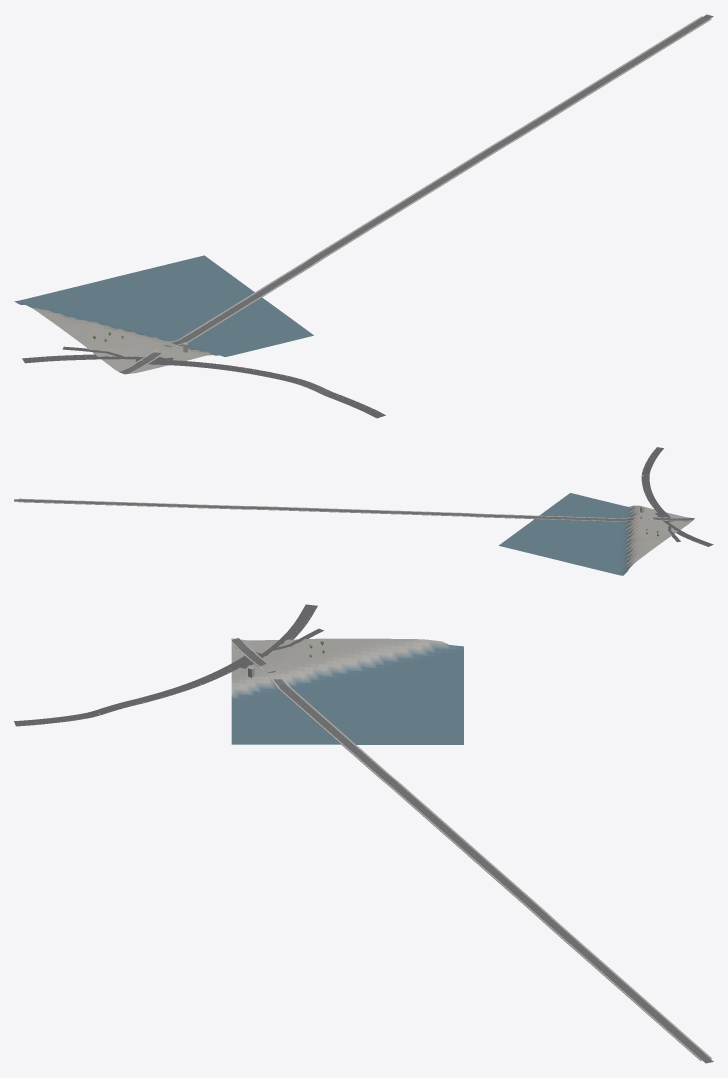
Rendered from tile_4_6.glb.
3 views of the same model, one above another, from view 1: azimuth 30°, elevation 25°; view 2: azimuth 150°, elevation 25°; view 3: azimuth 270°, elevation 25° (orthographic). The views are drawn at different scales.
Visible parts, largest first — view 1: terrain, roads, sidewalks; view 2: terrain, roads, sidewalks; view 3: terrain, roads, sidewalks.
Boxes of the visible parts, x1,y1,x2,y2 form: terrain: (14, 255, 313, 374); roads: (22, 14, 713, 418); sidewalks: (122, 16, 711, 372); terrain: (498, 493, 694, 575); roads: (14, 447, 713, 546); sidewalks: (18, 498, 688, 521); terrain: (231, 638, 463, 744); roads: (14, 604, 713, 1063); sidewalks: (233, 641, 711, 1060).
Bounding box in the file's own units: 1181 × 18.98 × 772.
